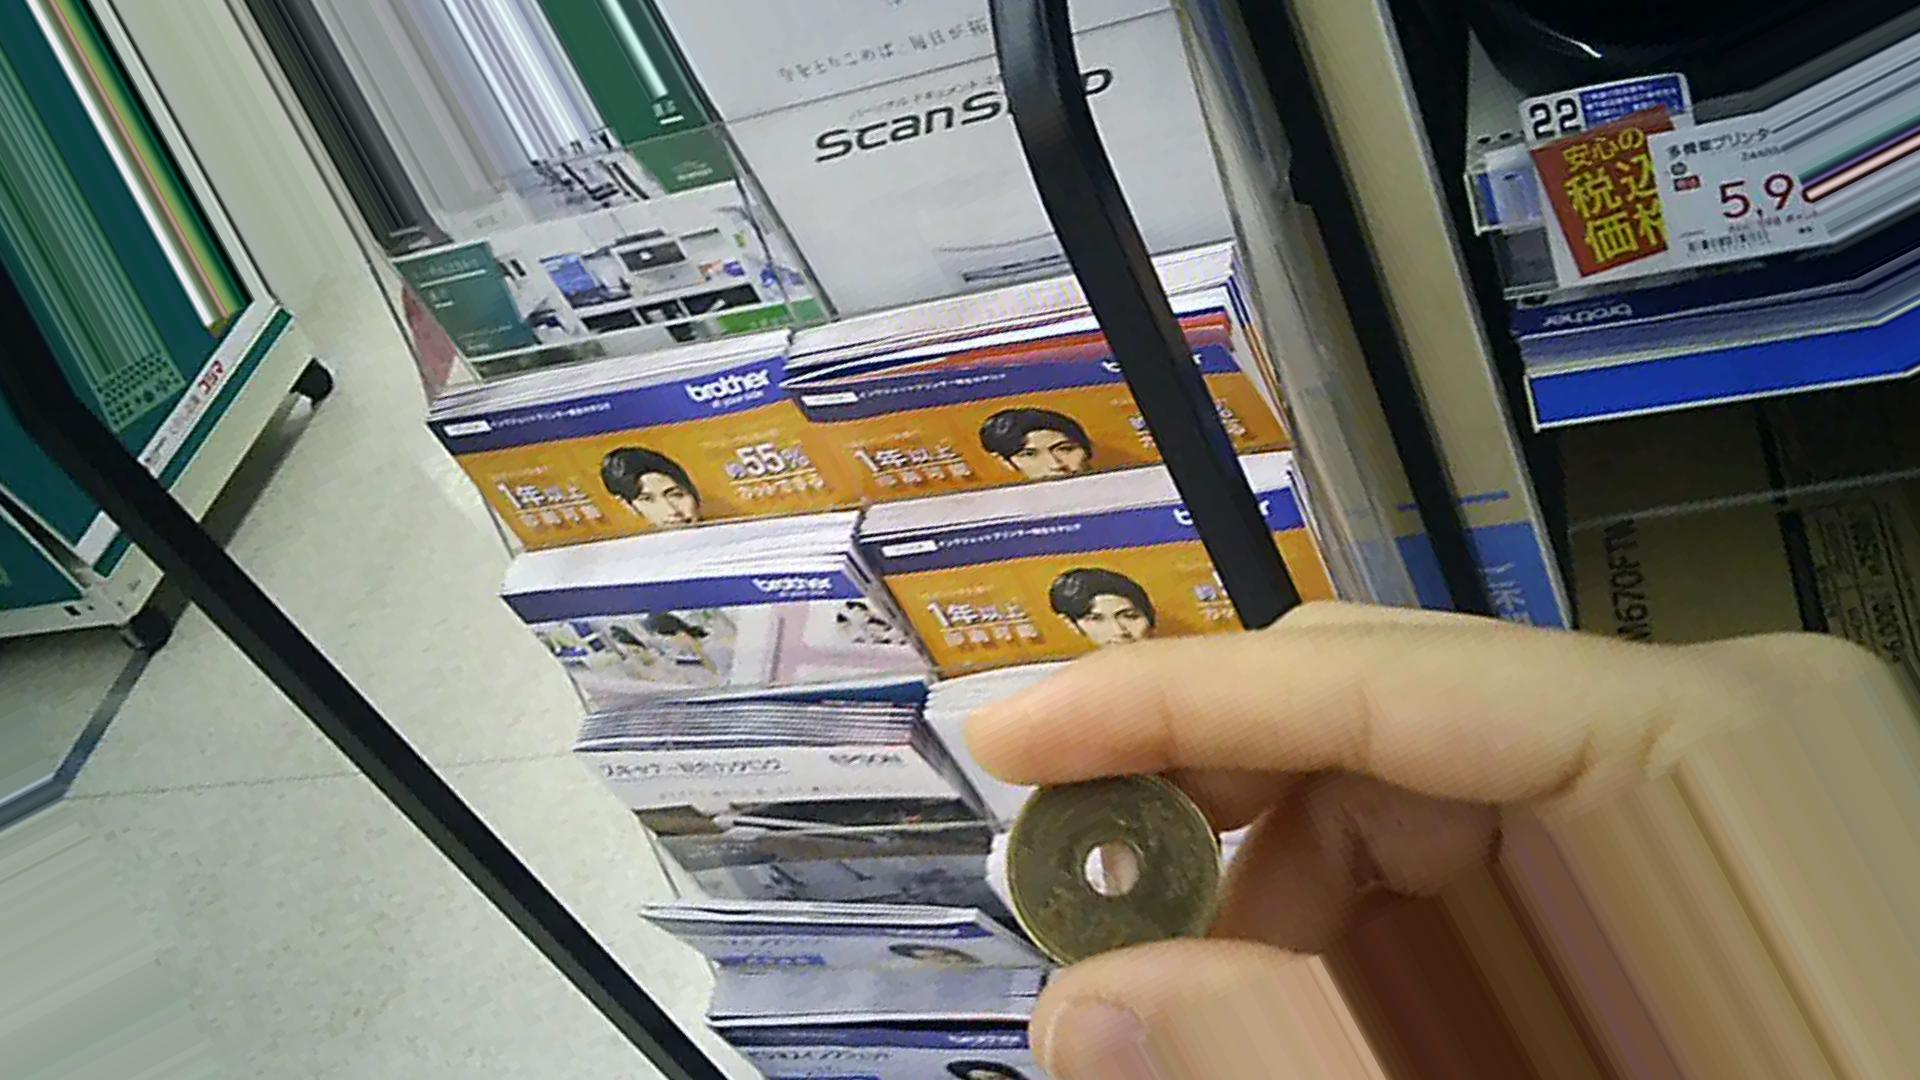5 Yen: (997, 781, 1232, 984)
